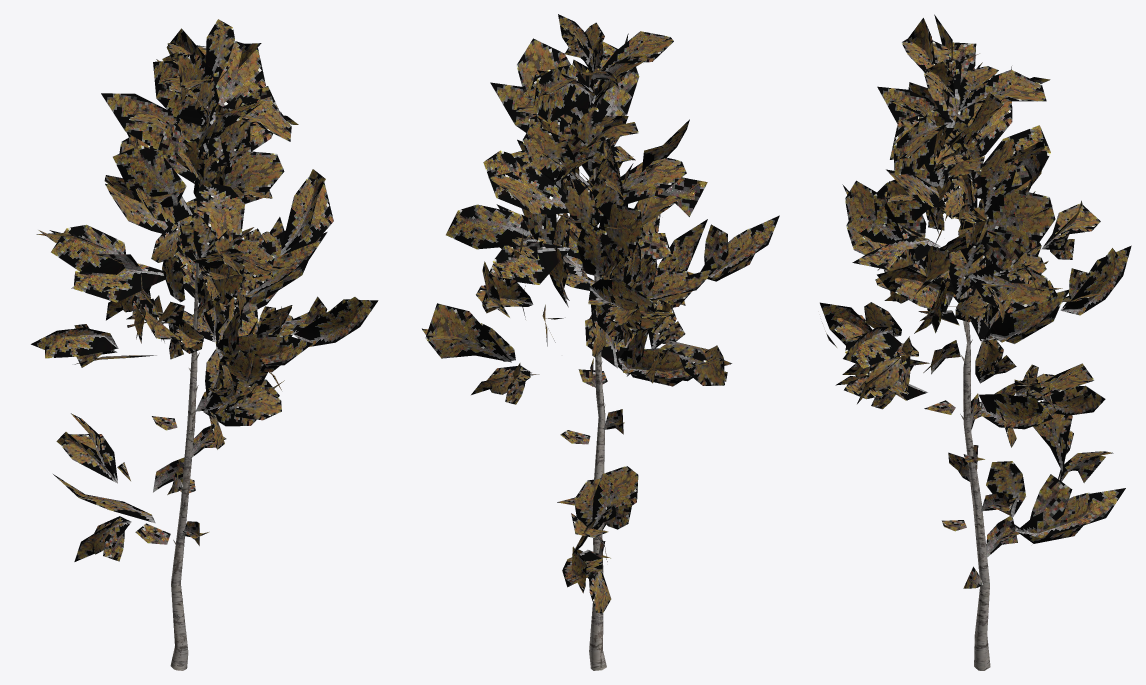
The model's file is tundra-birch-big-close.glb.
3 views of the same model, side by side, from view 1: azimuth 30°, elevation 25°; view 2: azimuth 150°, elevation 25°; view 3: azimuth 270°, elevation 25° (orthographic).
Visible parts, largest first — view 1: birch_big_tundra_LOD0; view 2: birch_big_tundra_LOD0; view 3: birch_big_tundra_LOD0.
Boxes of the visible parts, x1,y1,x2,y2 form: birch_big_tundra_LOD0: (31,19,378,670); birch_big_tundra_LOD0: (422,14,779,670); birch_big_tundra_LOD0: (820,14,1131,670).
Size of the model in its own units: 11.35 by 25.21 by 11.55.
1 material, 1 textured.
